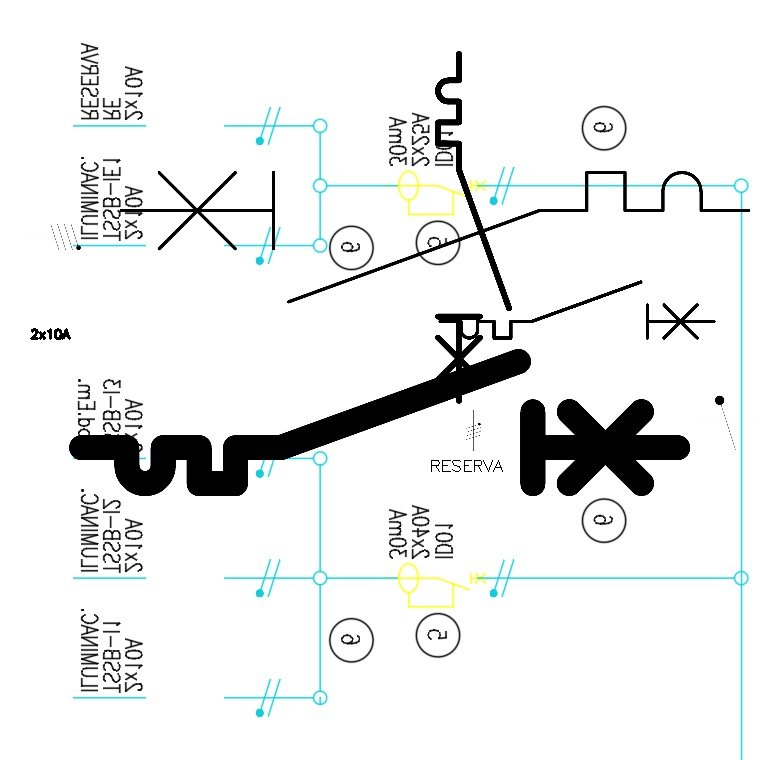interruptor_termomagnetico: (104, 156, 764, 317), (66, 346, 692, 499), (429, 45, 518, 410), (433, 275, 721, 345)
